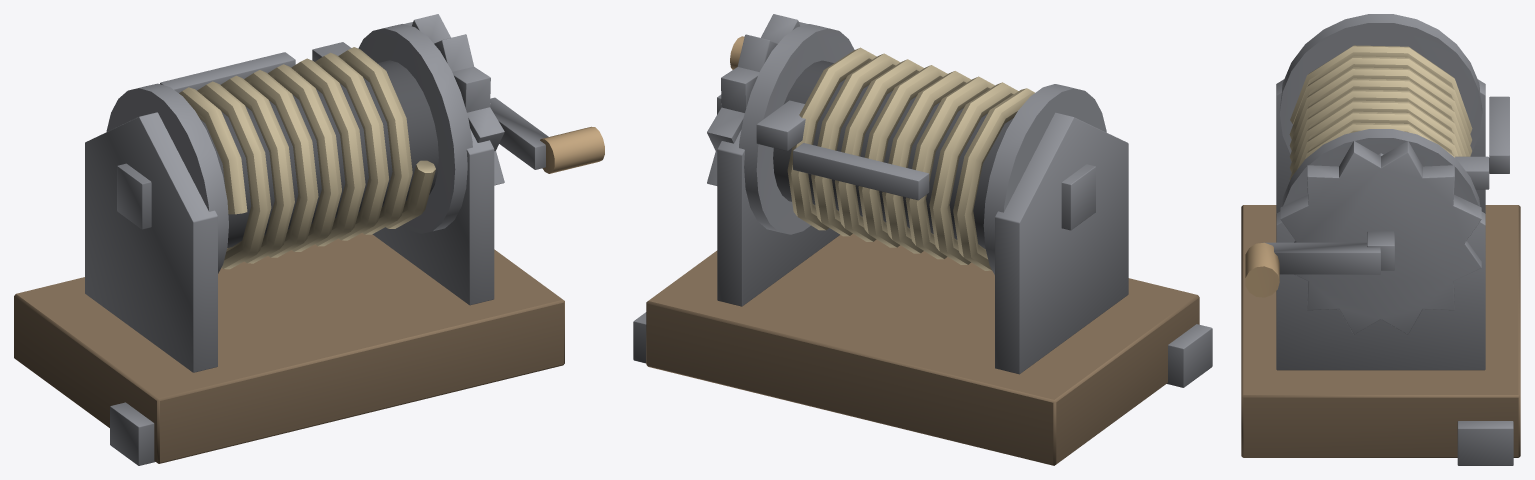
Rendered from rig_winch.glb.
3 renders of one model, left to right at view 1: azimuth 30°, elevation 25°; view 2: azimuth 150°, elevation 25°; view 3: azimuth 270°, elevation 25°, orthographic. The views are drawn at different scales.
Visible parts, largest first — view 1: rig_winch, drum; view 2: rig_winch, drum; view 3: drum, rig_winch.
Boxes of the visible parts, <box> form: rig_winch: <box>14,42,564,465</box>; drum: <box>106,14,604,273</box>; rig_winch: <box>633,100,1212,465</box>; drum: <box>707,14,1106,274</box>; drum: <box>1245,14,1482,334</box>; rig_winch: <box>1241,79,1520,465</box>.
Size of the model in its own units: 1.48 by 0.9086 by 0.8.
